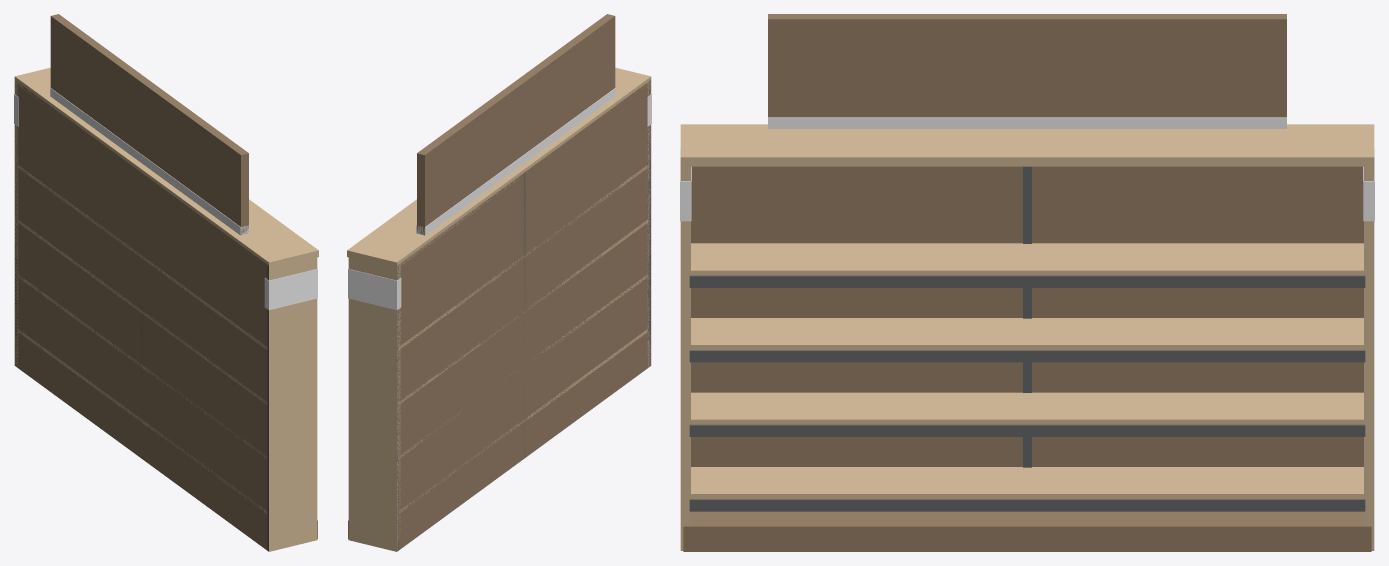
The model's file is shelf_half.glb.
The picture shows the model from 3 angles, left to right: view 1: azimuth 30°, elevation 25°; view 2: azimuth 150°, elevation 25°; view 3: azimuth 270°, elevation 25°; orthographic projection. The views are drawn at different scales.
Parts seen in each view (by area): view 1: walnut, oak, band, metal; view 2: walnut, oak, band, metal; view 3: walnut, oak, metal, band.
Part boxes in pixels (x1,y1,x2,y2): walnut: (15, 14, 317, 550); oak: (14, 67, 318, 551); band: (14, 88, 317, 310); metal: (15, 85, 268, 551); walnut: (348, 14, 649, 550); oak: (347, 67, 651, 551); band: (348, 88, 651, 310); metal: (397, 80, 650, 551); walnut: (683, 14, 1371, 551); oak: (680, 124, 1374, 550); metal: (689, 166, 1365, 511); band: (680, 117, 1374, 221).
Size of the model in its own units: 0.625 by 4.43 by 5.49.
